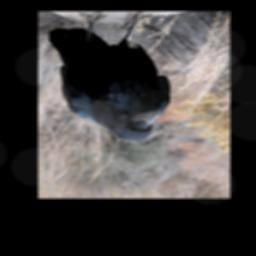Crow: (47, 12, 173, 143)
